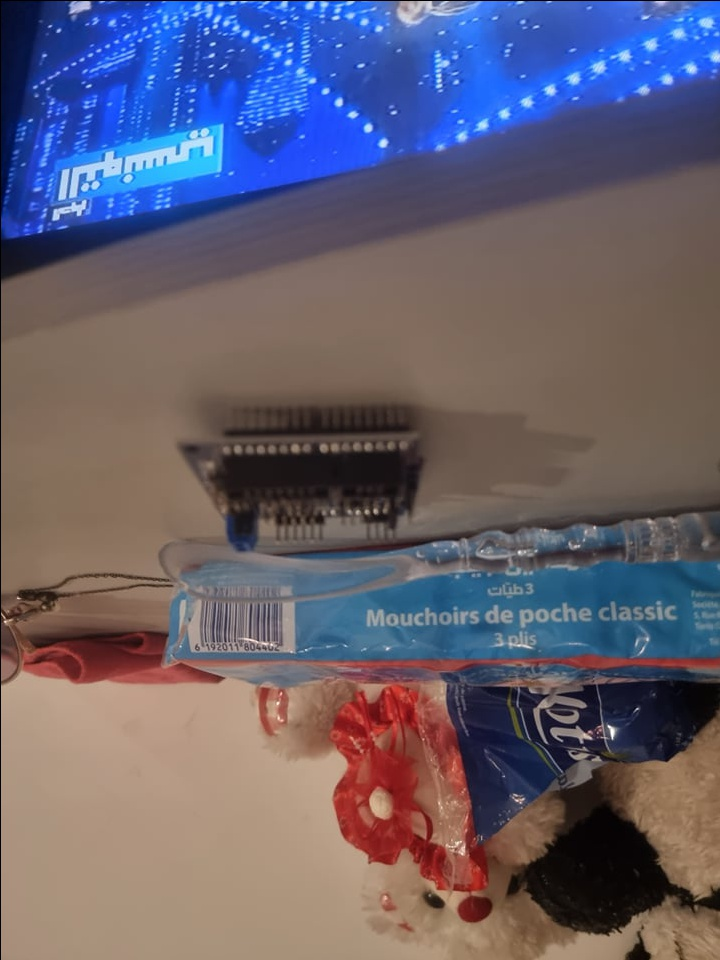5V EXPANSION: (174, 407, 419, 553)
